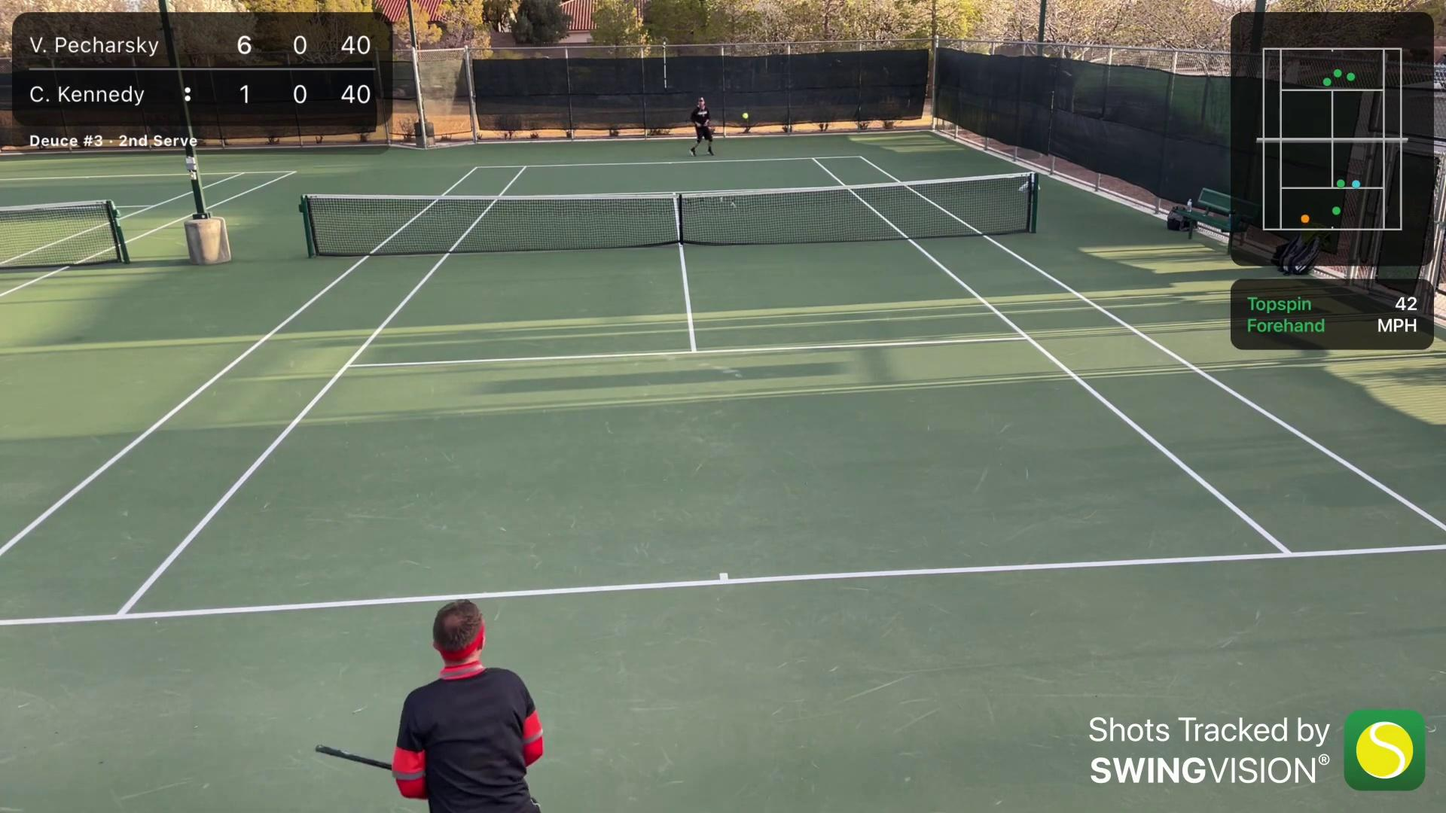ball: (741, 112, 749, 120)
